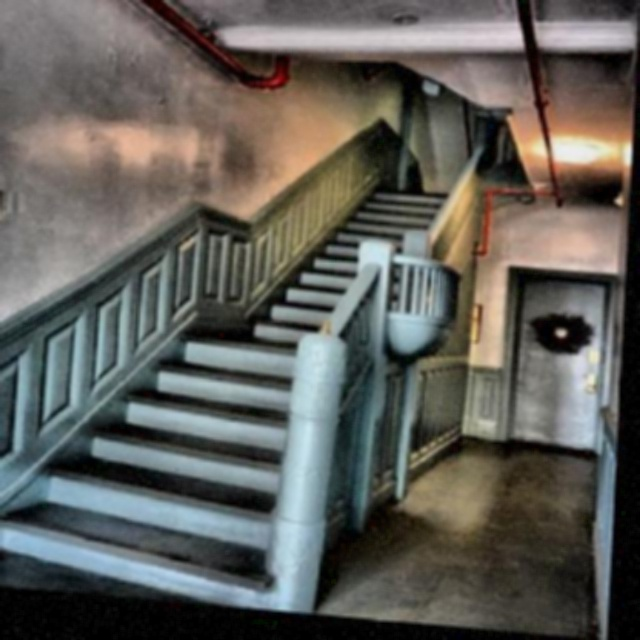stair: (2, 143, 486, 602)
